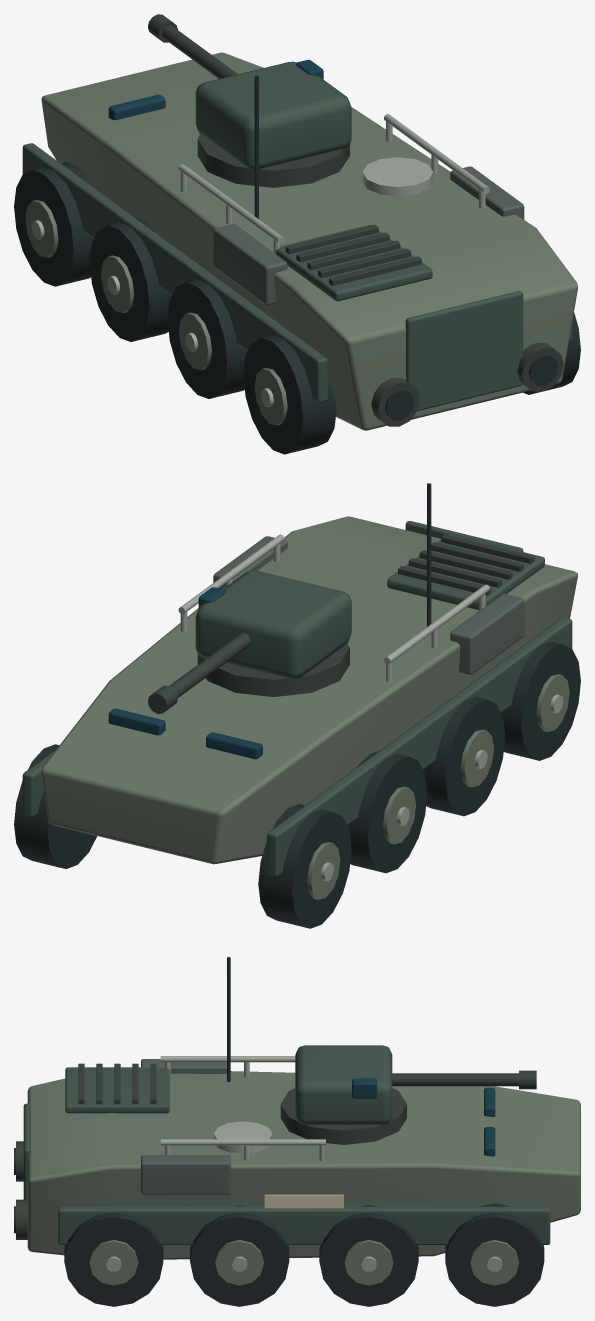
The model's file is cas_amphibious_apc.glb.
3 views of the same model, one above another, from view 1: azimuth 30°, elevation 25°; view 2: azimuth 150°, elevation 25°; view 3: azimuth 270°, elevation 25° (orthographic). The views are drawn at different scales.
Visible parts, largest first — view 1: Hull, TurretVisual; view 2: Hull, TurretVisual; view 3: Hull, TurretVisual.
Part boxes in pixels (x1,y1,x2,y2): Hull: [14, 52, 580, 454]; TurretVisual: [148, 14, 351, 187]; Hull: [14, 483, 580, 928]; TurretVisual: [148, 571, 351, 713]; Hull: [14, 957, 580, 1306]; TurretVisual: [280, 1045, 536, 1144].
Size of the model in its own units: 3.91 by 3.96 by 7.89.
